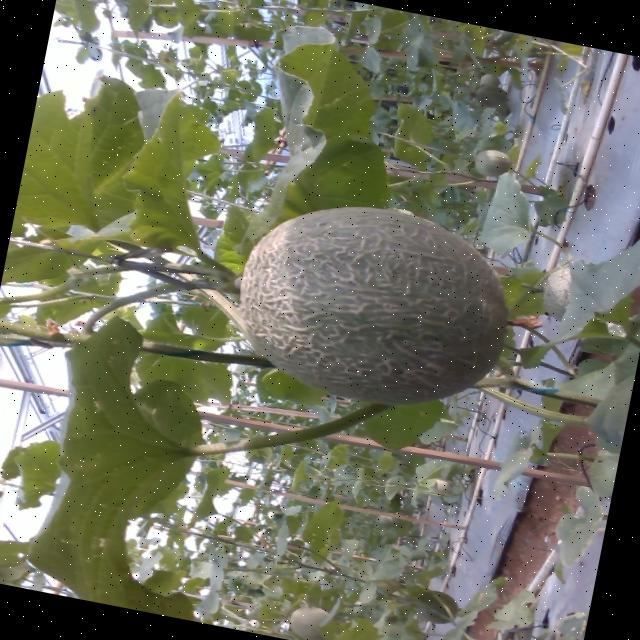melon: (241, 206, 508, 403)
